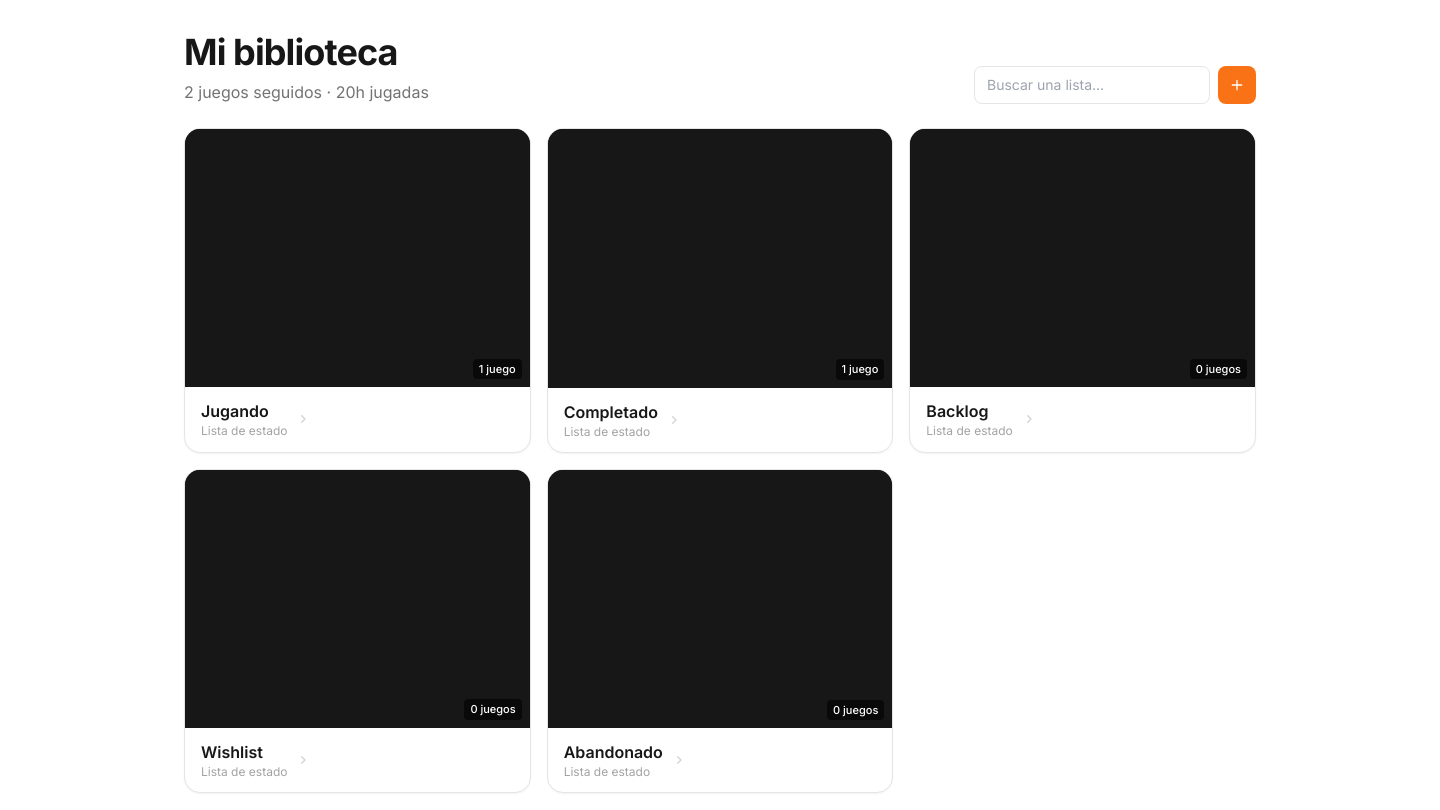
it: LibraryPage › el botón de volver devuelve al resumen
Click the button "1 juego Completado Lista de estado".
click(720, 290)  # box [547,128,893,452]
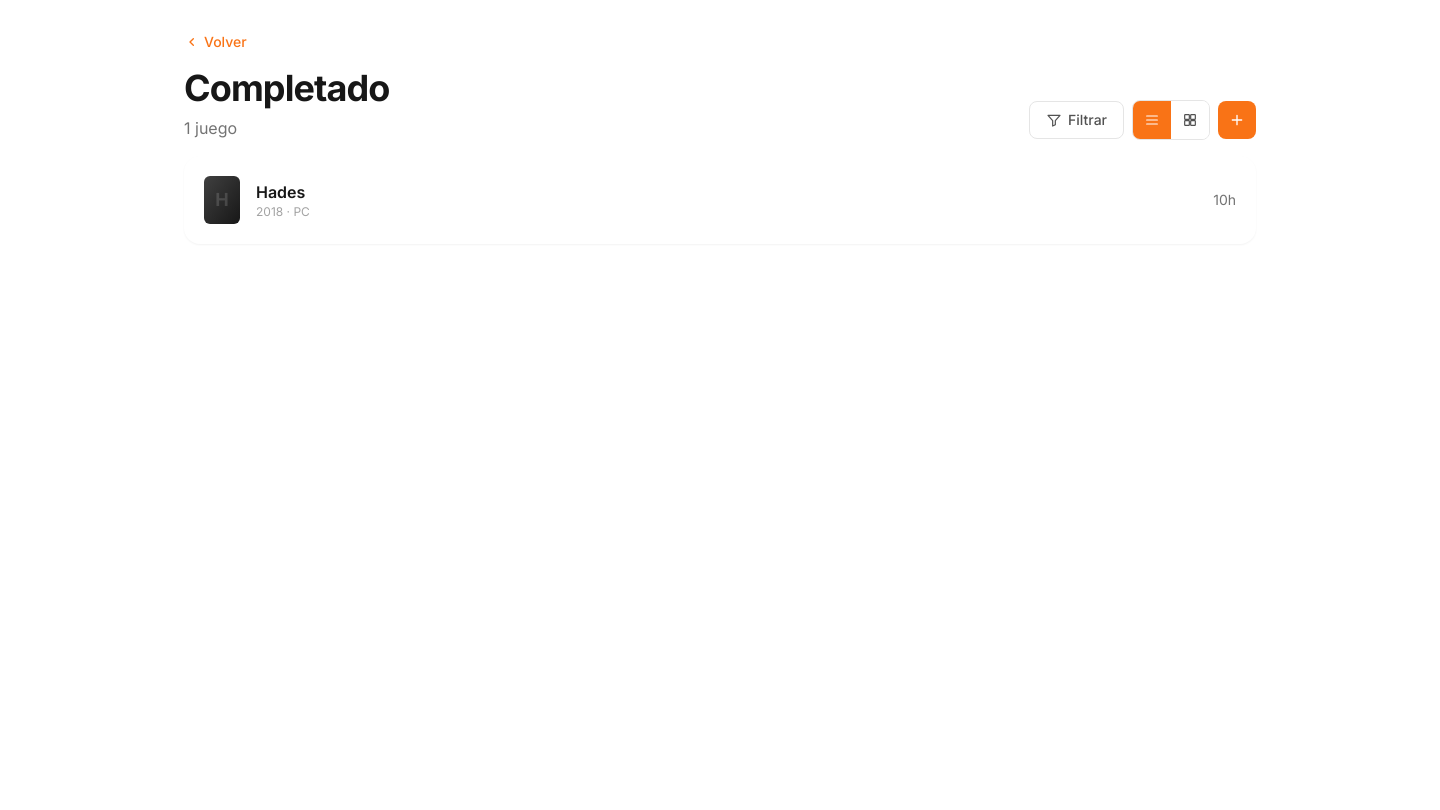
Expected: the text "Hades" is shown, [256,180,305,204]
Click the button "Volver".
click(215, 42)  # box [184,32,247,52]
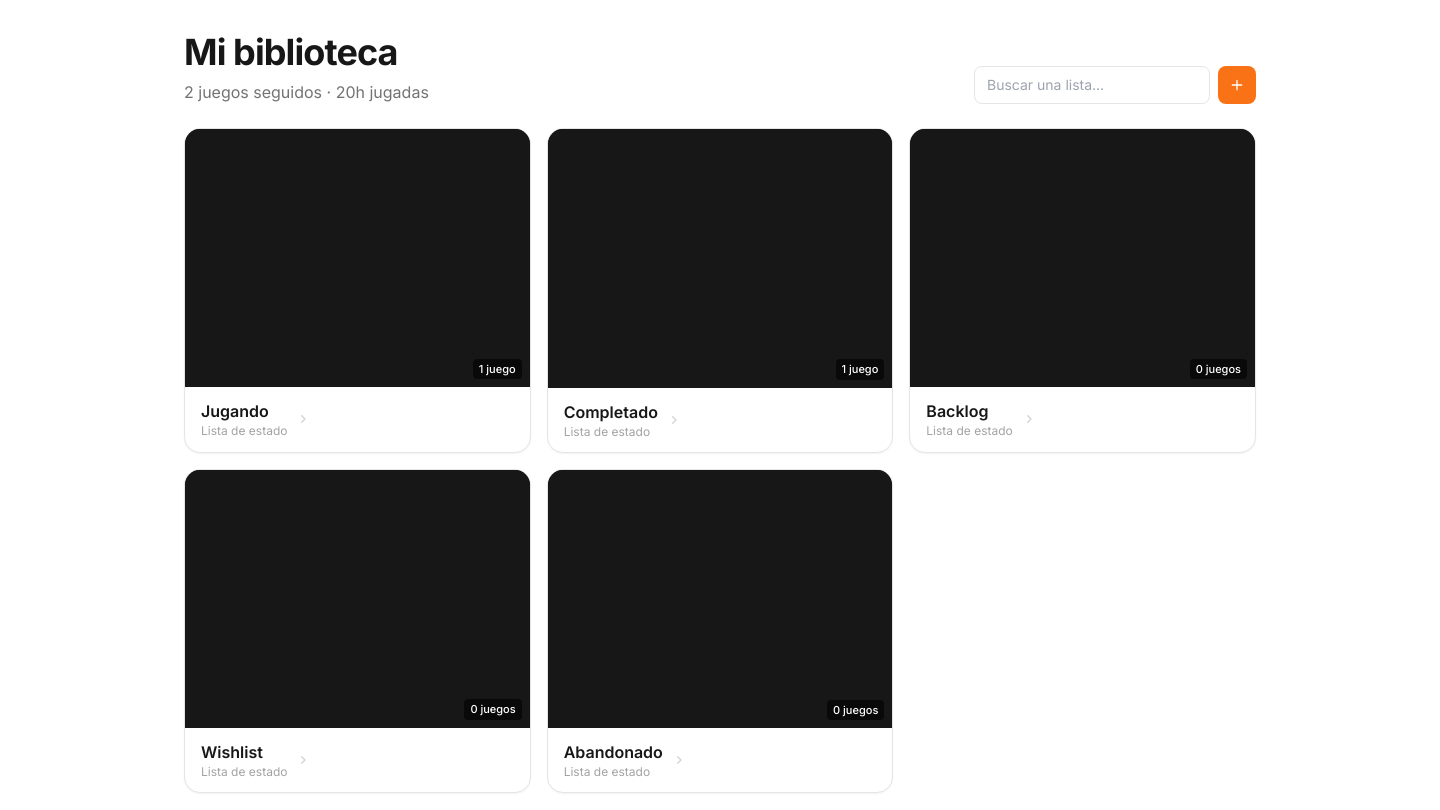
Expected: the button "Hades" is gone
